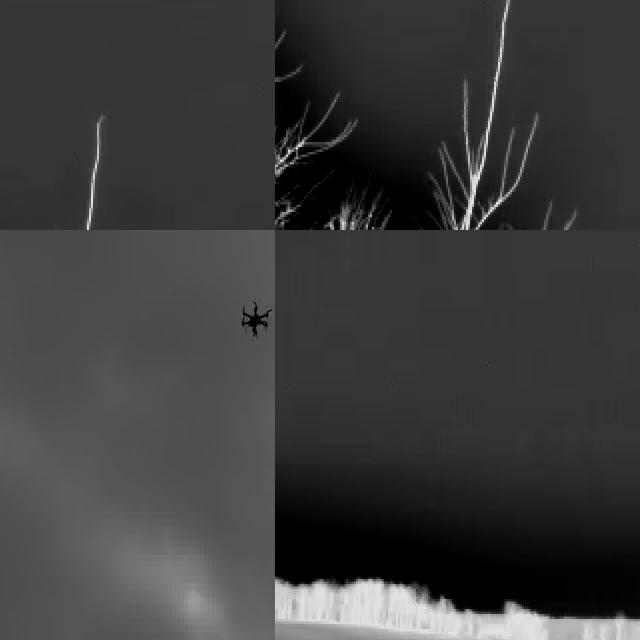drone: (238, 292, 272, 340)
